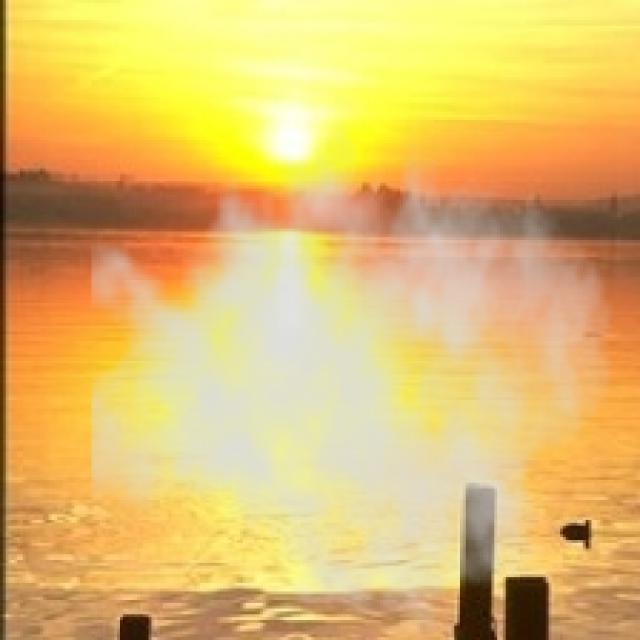Smoke: (91, 97, 614, 634)
